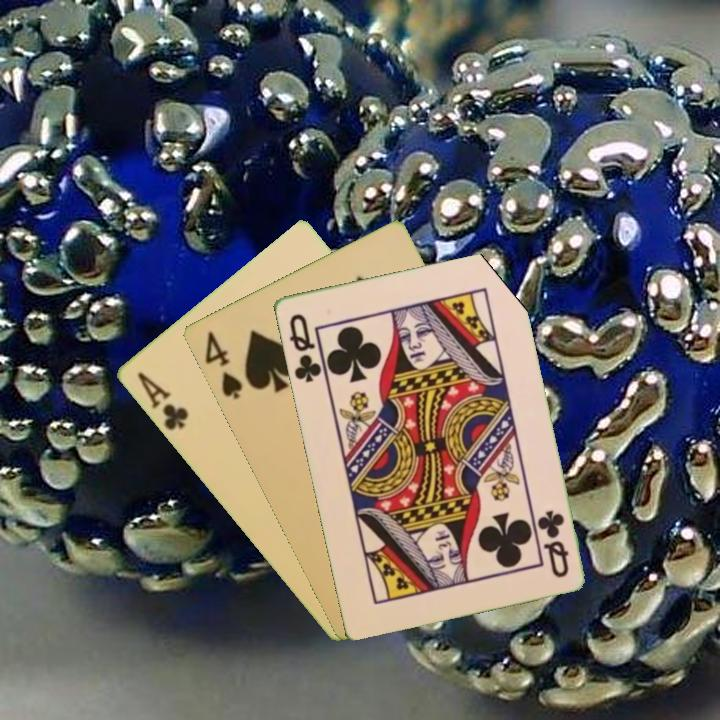4s: (201, 327, 245, 402)
Ac: (133, 368, 191, 433)
Qc: (285, 309, 328, 385), (533, 506, 571, 581)
